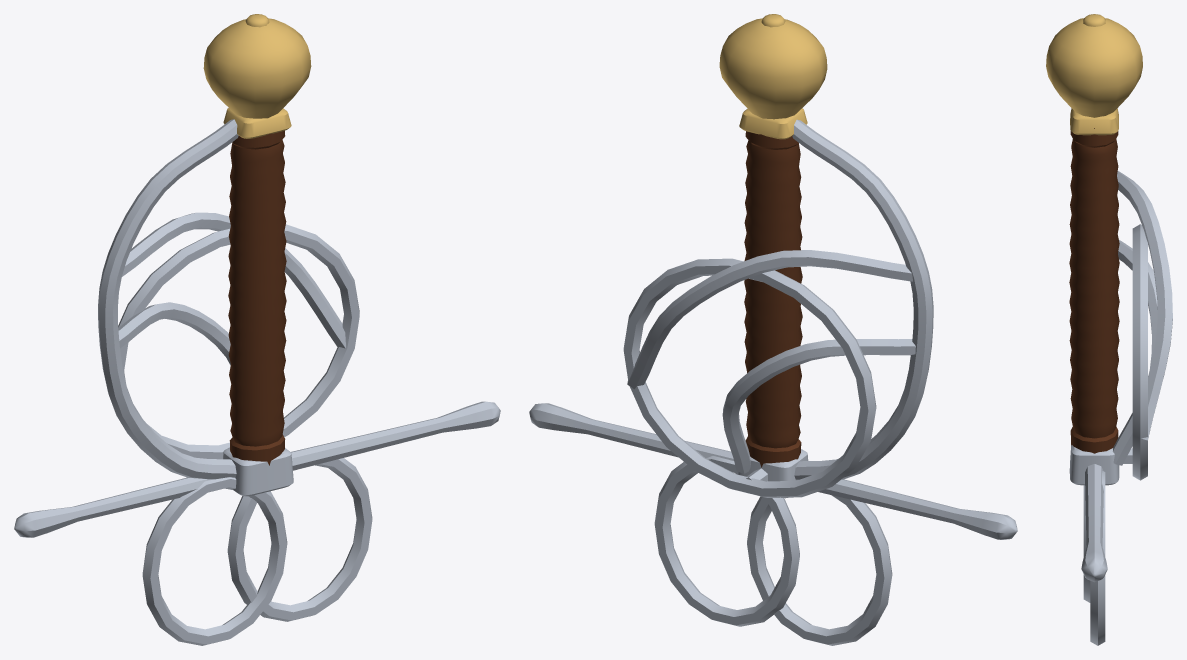
File: RapierHiltGame.fbx
The picture shows the model from 3 angles, left to right: view 1: azimuth 30°, elevation 25°; view 2: azimuth 150°, elevation 25°; view 3: azimuth 270°, elevation 25°; orthographic projection. The views are drawn at different scales.
Parts seen in each view (by area): view 1: Guard, Grip, Pommel; view 2: Guard, Grip, Pommel; view 3: Grip, Guard, Pommel.
Boxes of the visible parts, x1,y1,x2,y2 form: Guard: (14,119,500,645); Grip: (228,130,286,465); Pommel: (203,14,311,138); Guard: (529,119,1017,645); Grip: (744,131,802,467); Pommel: (719,14,827,139); Grip: (1069,128,1119,453); Guard: (1069,171,1172,645); Pommel: (1046,14,1142,135).
Size of the model in its own units: 1.32 by 1.59 by 0.3047.
